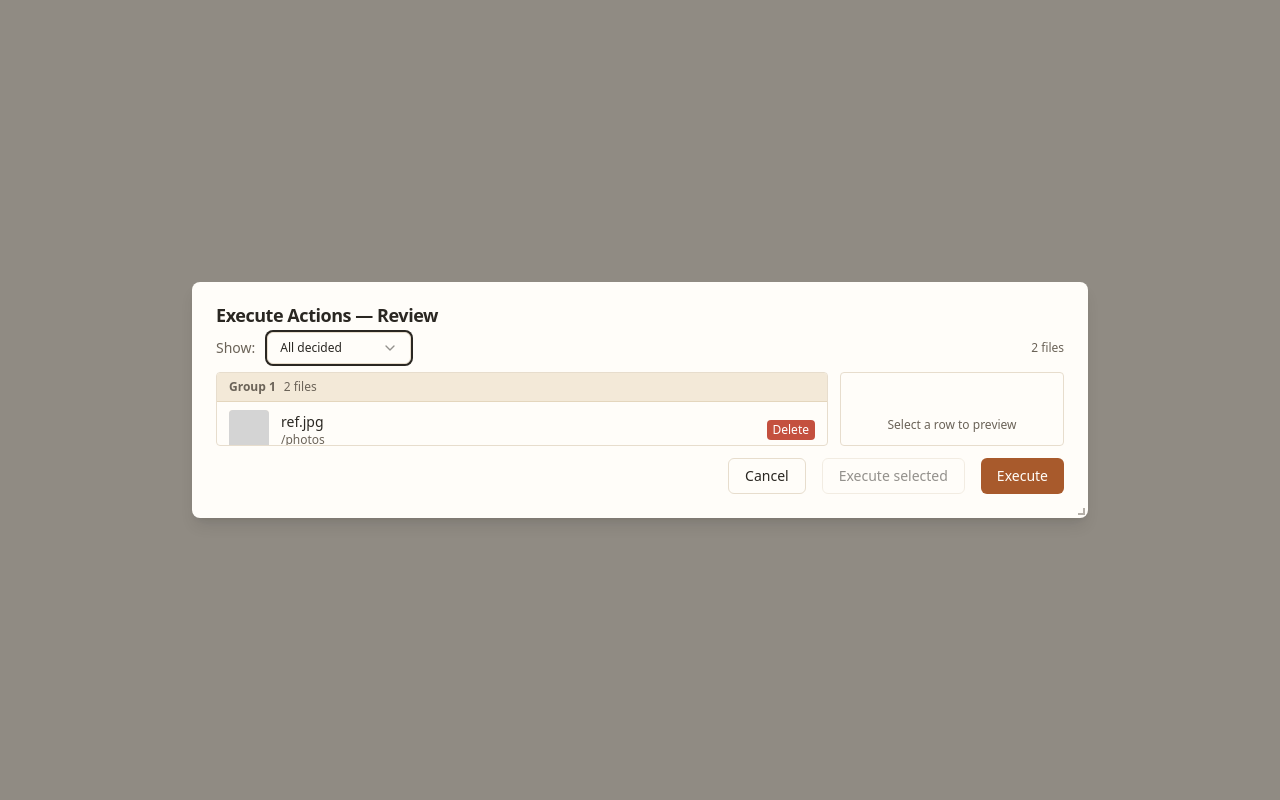
ExecuteDialog › Execute-selected is disabled when every highlighted row is hidden by the filter
Click the button with test id "execute-row-1-ref.jpg": [249, 430] box 217,402 -> 827,459
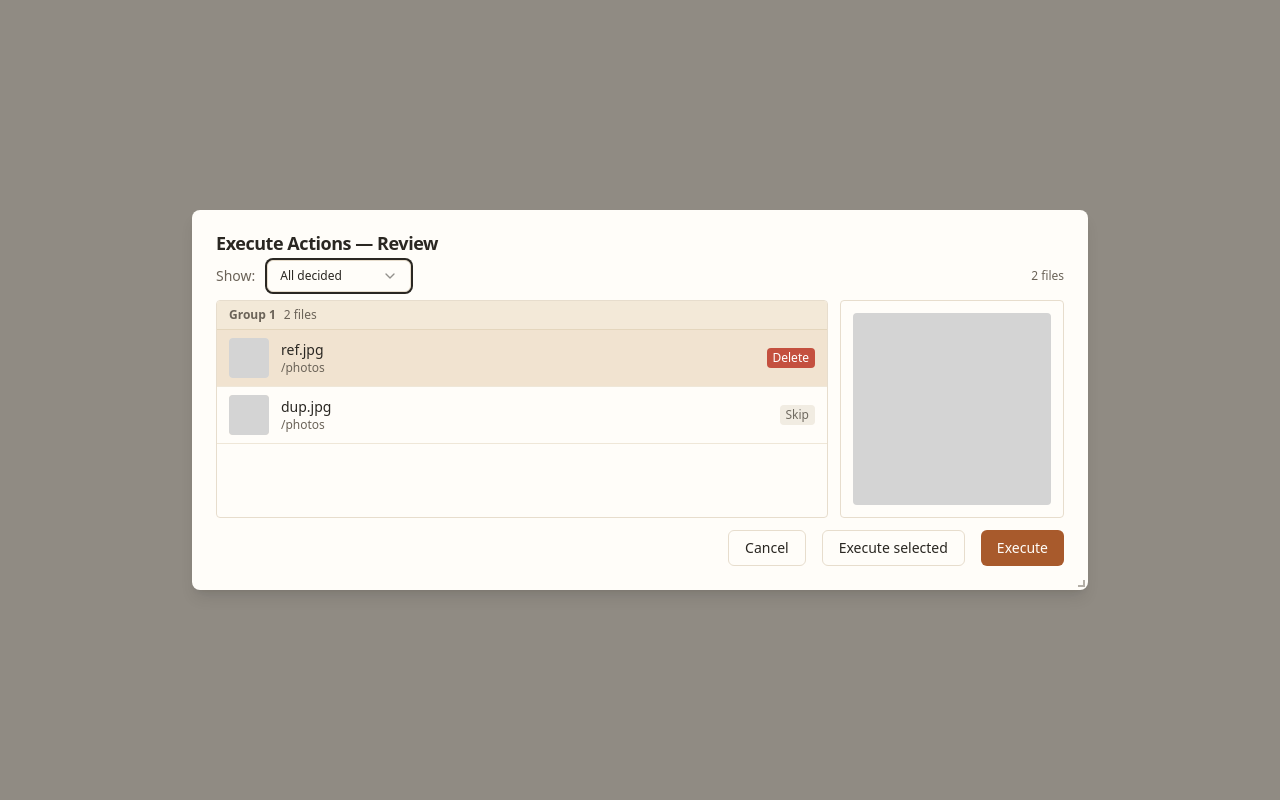
Expected: the button with test id "execute-btn-execute-selected" is enabled, 822,530 -> 965,566
Click the dropdown with test id "execute-type-filter": [339, 276] box 267,260 -> 411,292
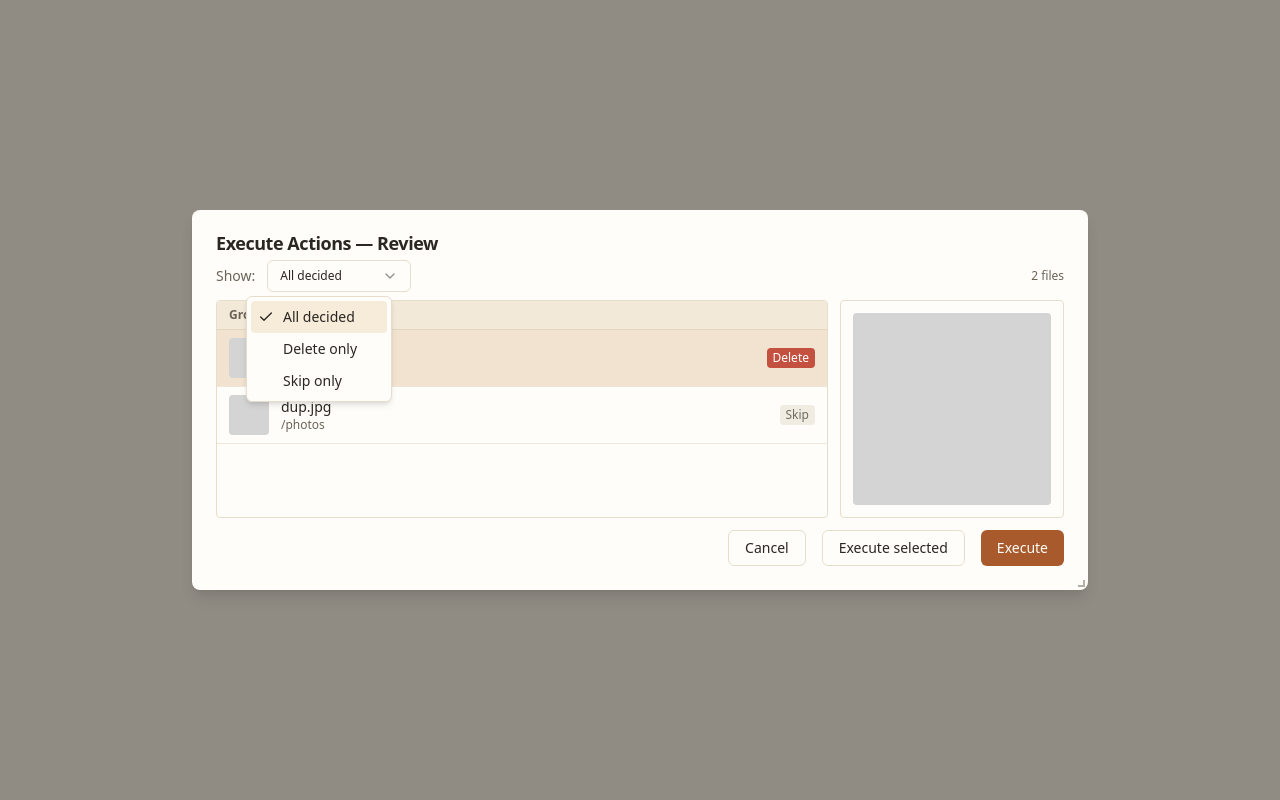
Click the option "Skip only": [312, 380] box 283,371 -> 342,390
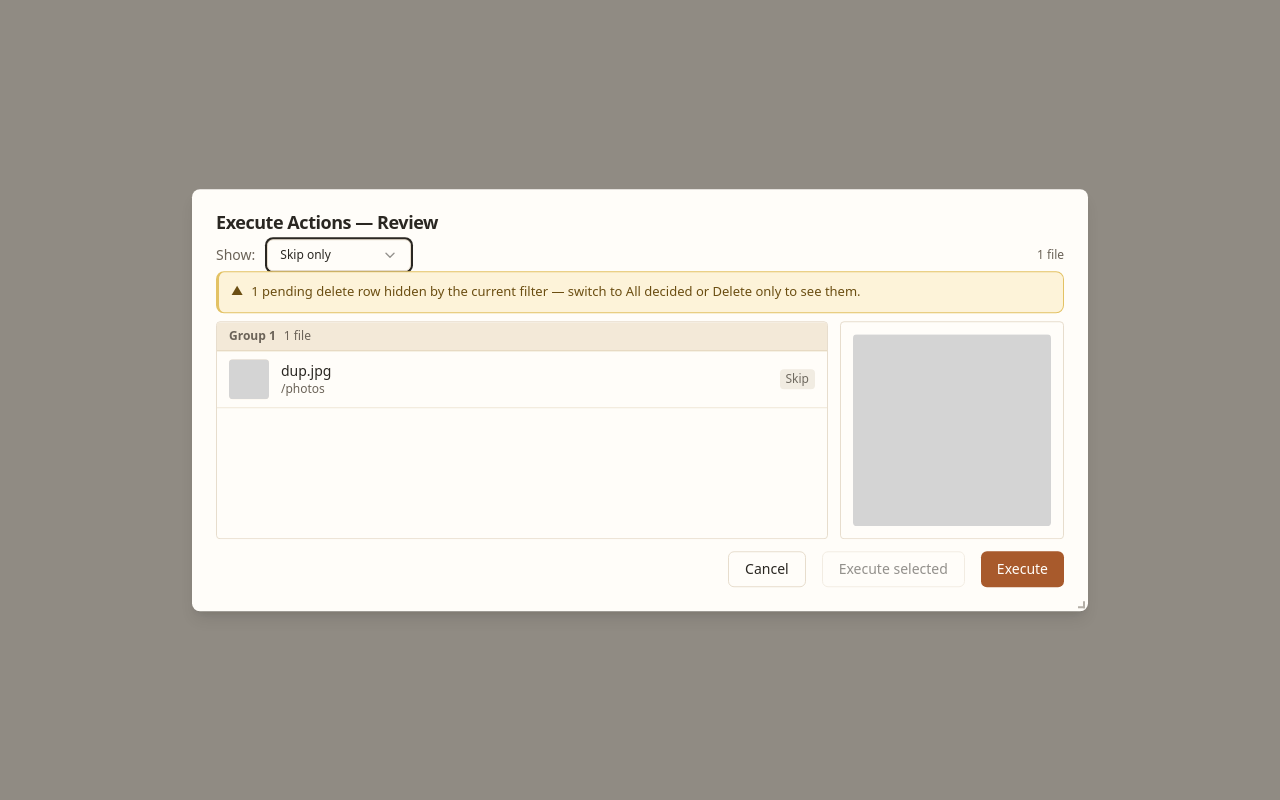
Expected: the button with test id "execute-btn-execute-selected" is disabled, 822,551 -> 965,587
